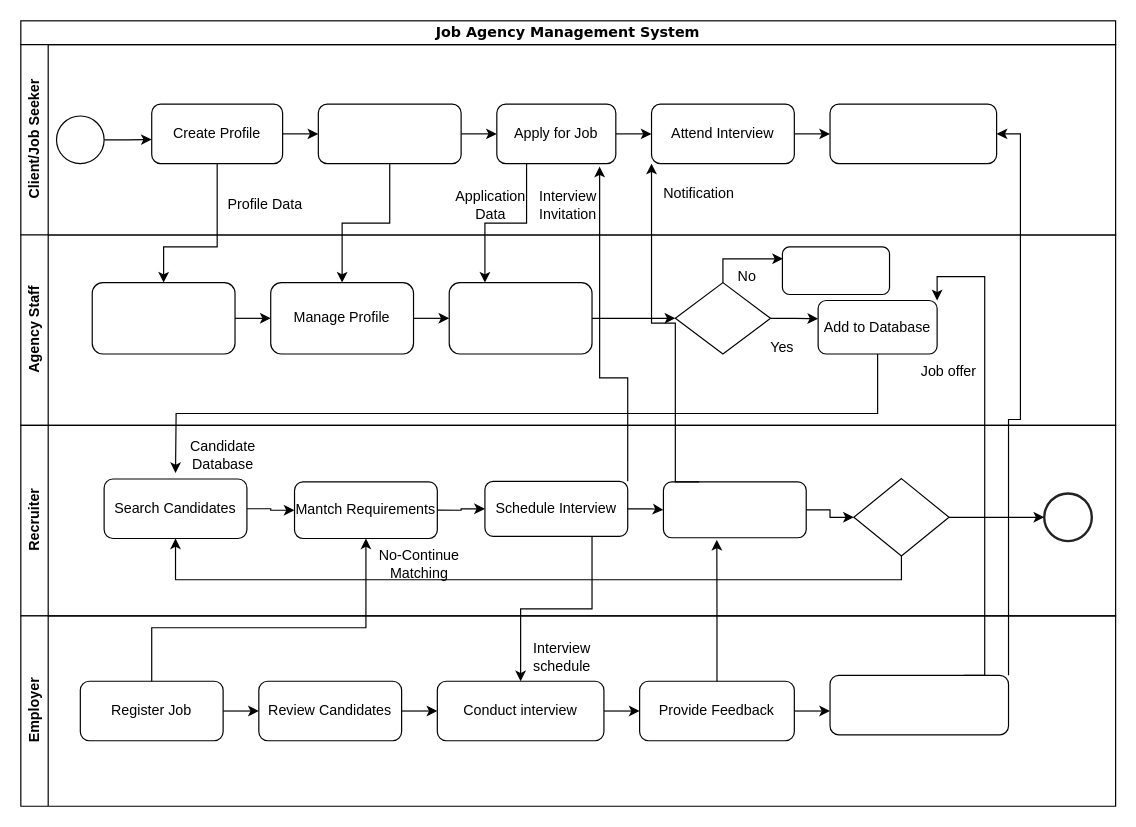
Image size: 1136x827. Some labels were removed from this diagram. The centre of each missing label's shape, as x and y in pixels:
Accept/Reject Offer: point (913, 133)
Make Offer: point (919, 704)
Notify Candidate: point (835, 270)
Placed?: point (901, 516)
Register Candidate: point (163, 317)
Search Jobs: point (389, 133)
Track Feedback: point (734, 509)
Valid?: point (722, 317)
Validate Candidate: point (520, 317)
